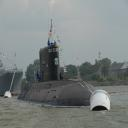submarine: (19, 43, 101, 106)
